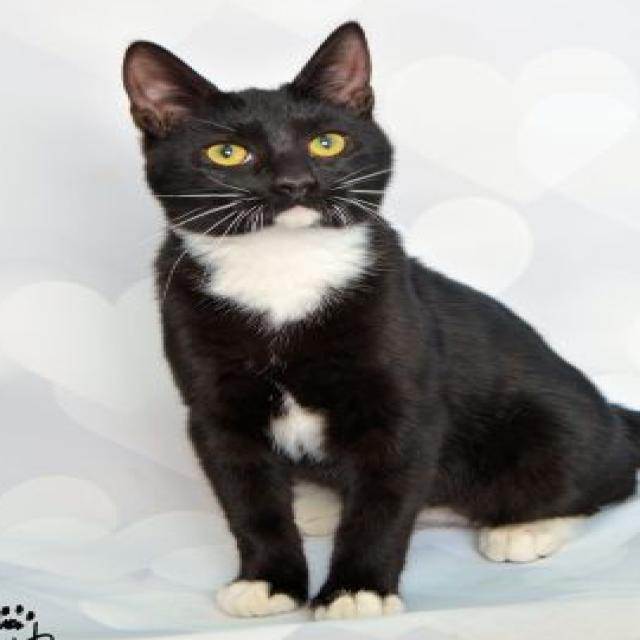Tuxedo: (118, 14, 640, 623)
